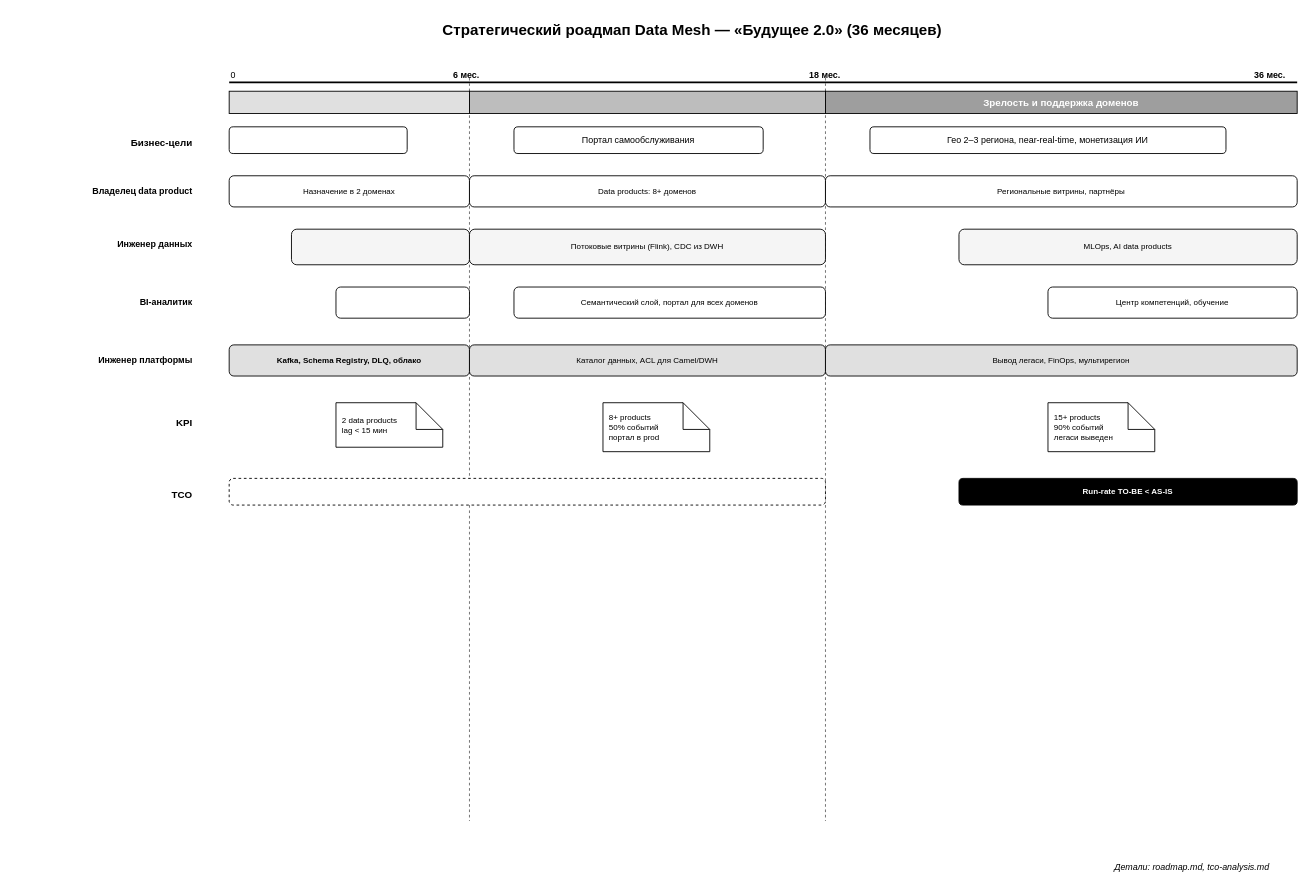
Some shapes in this 1316 by 889 pixel diagram are drawn without their labels. The shapes that lost their labels are listed below. From the top down, each one's box as (x1, y1, x2, y2) in pixels, then its label:
(228, 90, 469, 113): Подготовка + Пилот
(469, 90, 825, 113): Масштабирование
(228, 126, 407, 154): Архитектура согласована
(291, 228, 469, 265): Пилотные витрины: кредиты, пациентопоток
(335, 286, 469, 318): MVP портала (1 домен)
(228, 477, 825, 505): Пик затрат: миграция + dual-run
